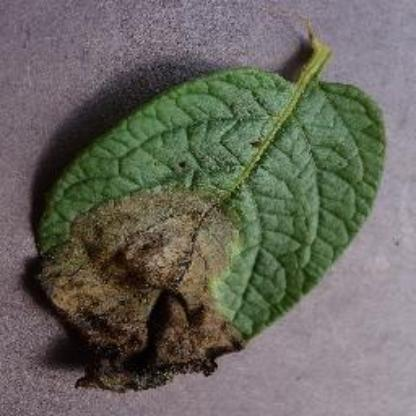Late-Blight: (28, 26, 394, 394)
